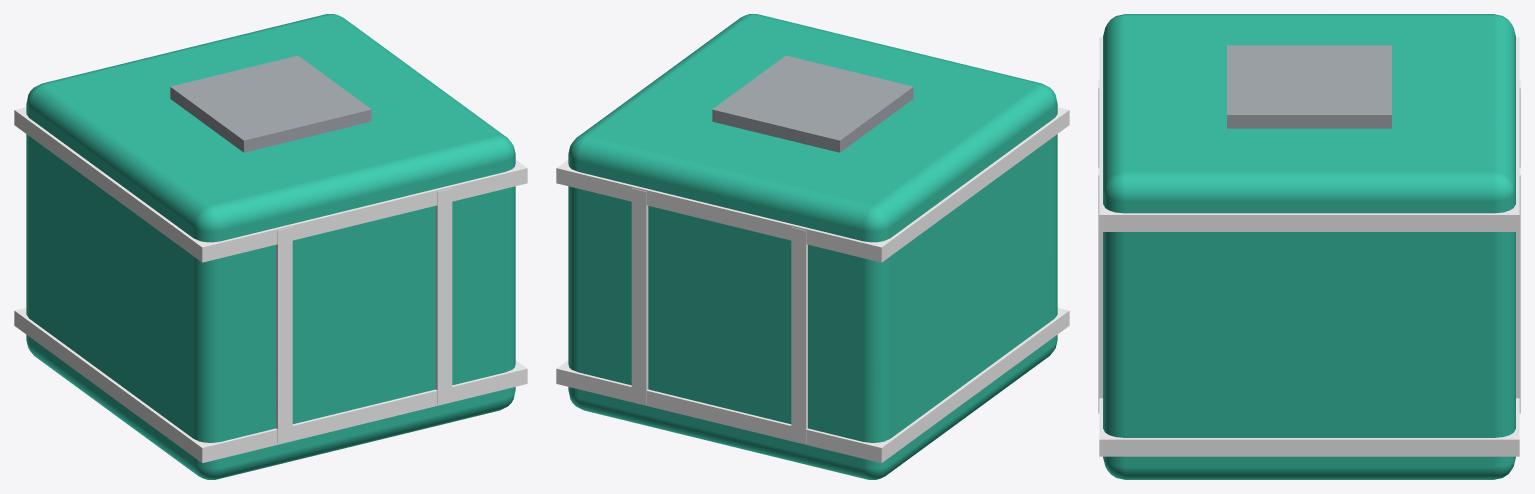
The model's file is POWER_SHIELD.glb.
3 renders of one model, left to right at view 1: azimuth 30°, elevation 25°; view 2: azimuth 150°, elevation 25°; view 3: azimuth 270°, elevation 25°, orthographic. The views are drawn at different scales.
Parts seen in each view (by area): view 1: paint_0, lamps_2, steel_1; view 2: paint_0, lamps_2, steel_1; view 3: paint_0, lamps_2, steel_1.
Boxes of the visible parts, x1,y1,x2,y2 form: paint_0: [26, 14, 515, 479]; lamps_2: [14, 107, 527, 463]; steel_1: [170, 55, 371, 152]; paint_0: [568, 14, 1057, 479]; lamps_2: [556, 107, 1069, 463]; steel_1: [712, 55, 913, 152]; paint_0: [1103, 14, 1515, 479]; lamps_2: [1098, 37, 1520, 456]; steel_1: [1227, 45, 1391, 128].
Size of the model in its own units: 0.56 by 0.47 by 0.562.
